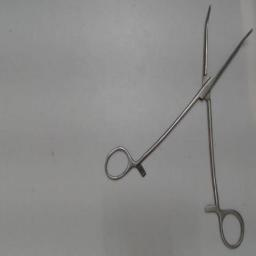Lahey Forceps: (100, 2, 256, 252)
